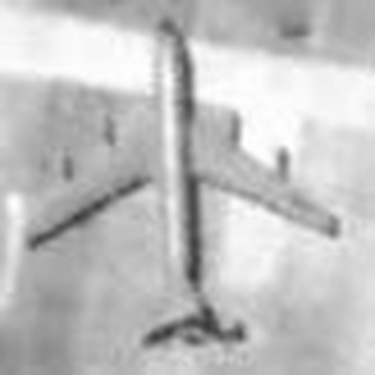airplane: (11, 6, 352, 362)
